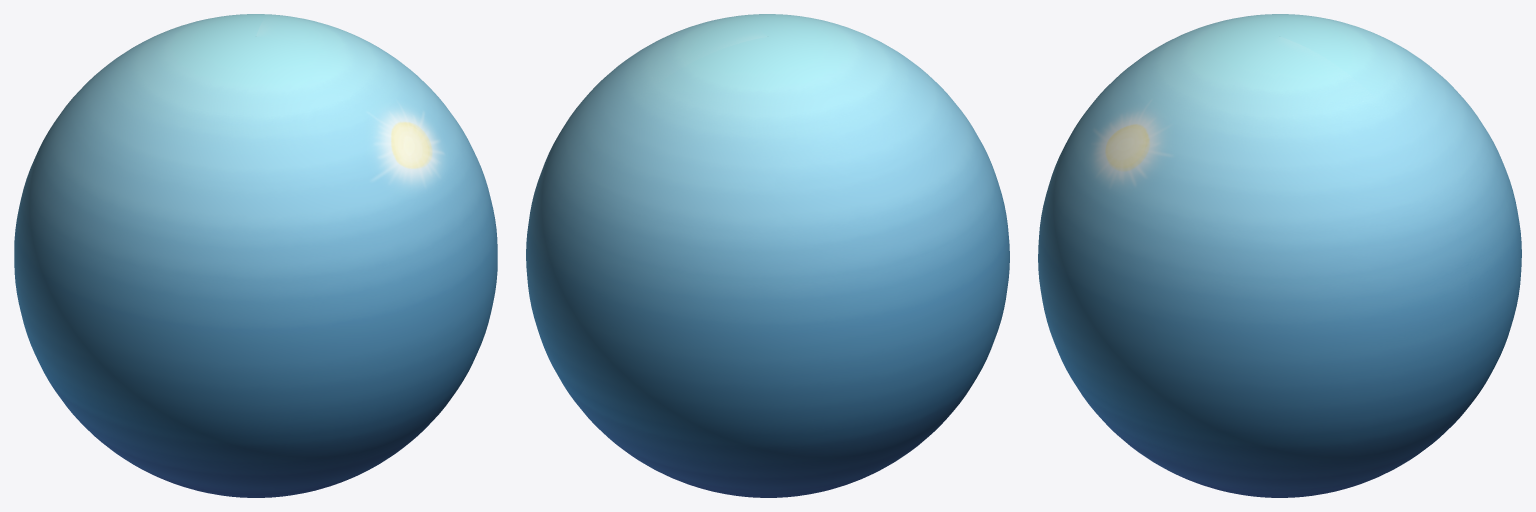
Rendered from SkyDome.fbx.
3 renders of one model, left to right at view 1: azimuth 30°, elevation 25°; view 2: azimuth 150°, elevation 25°; view 3: azimuth 270°, elevation 25°, orthographic.
Parts seen in each view (by area): view 1: SkyDome; view 2: SkyDome; view 3: SkyDome.
Part boxes in pixels (box(x1,y1,x2,y2)): SkyDome: box(14, 14, 497, 497); SkyDome: box(526, 14, 1009, 497); SkyDome: box(1038, 14, 1521, 497).
Bounding box in the file's own units: 69.03 × 69.01 × 69.01.
